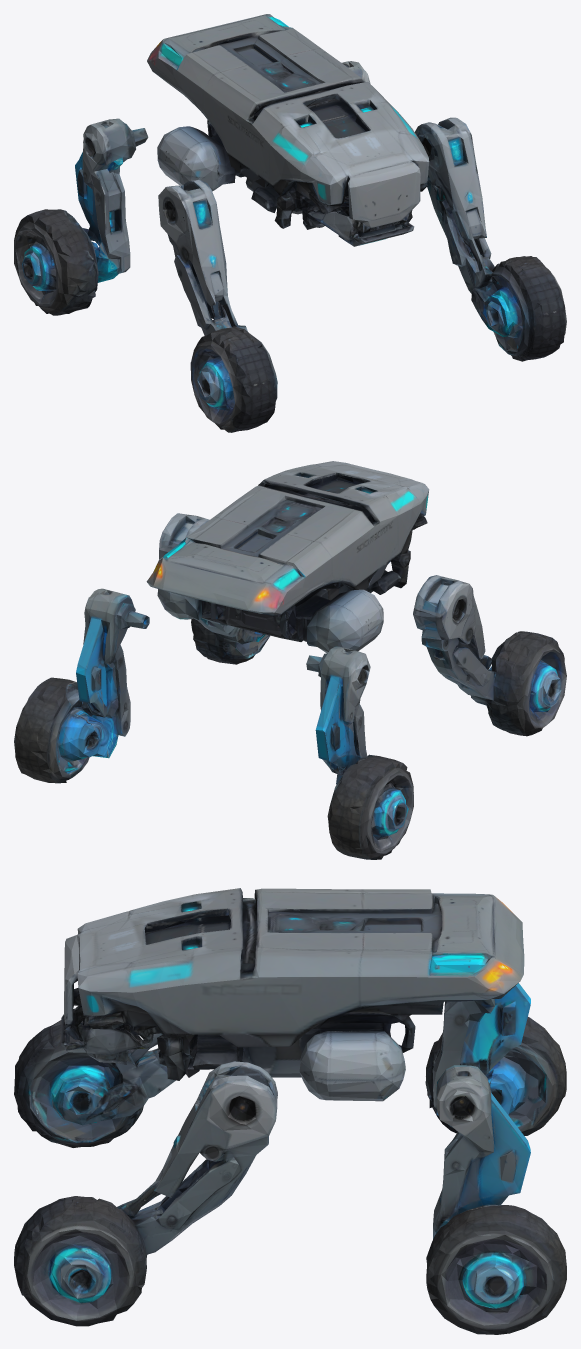
File: rover.obj
3 renders of one model, top to bottom at view 1: azimuth 30°, elevation 25°; view 2: azimuth 150°, elevation 25°; view 3: azimuth 270°, elevation 25°, orthographic. The views are drawn at different scales.
Parts seen in each view (by area): view 1: quadruped_sci_fi_robo_0522103827_texture; view 2: quadruped_sci_fi_robo_0522103827_texture; view 3: quadruped_sci_fi_robo_0522103827_texture.
Boxes of the visible parts, box(x1,y1,x2,y2) form: quadruped_sci_fi_robo_0522103827_texture: box(14, 14, 566, 432); quadruped_sci_fi_robo_0522103827_texture: box(14, 461, 566, 859); quadruped_sci_fi_robo_0522103827_texture: box(14, 888, 566, 1334).
Size of the model in its own units: 1.94 by 1.25 by 2.
1 material, 1 textured.
